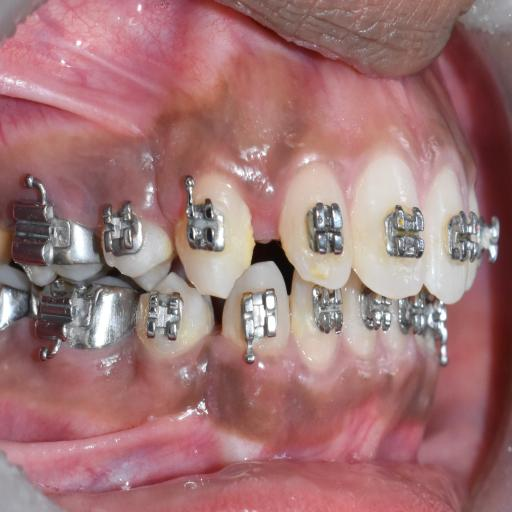correct_brace: (98, 178, 172, 304), (180, 199, 232, 261), (382, 199, 427, 261), (438, 207, 480, 266), (304, 200, 345, 258)
incorrect_brace: (276, 164, 353, 282), (100, 204, 146, 271)
